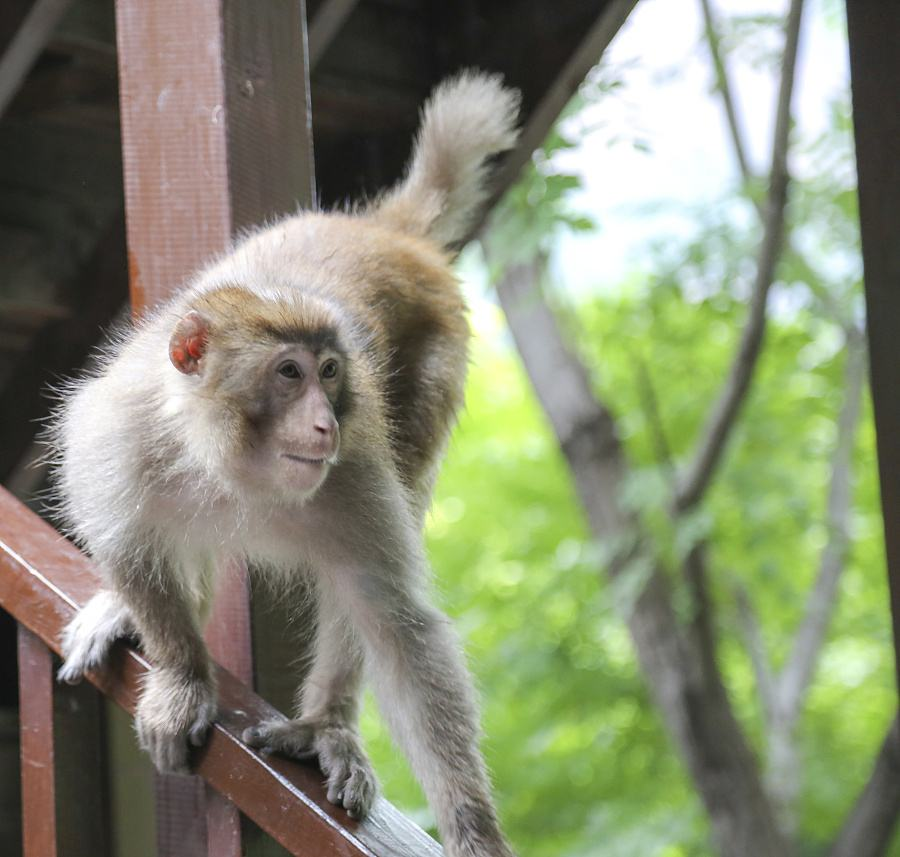monkey: (31, 151, 508, 817)
